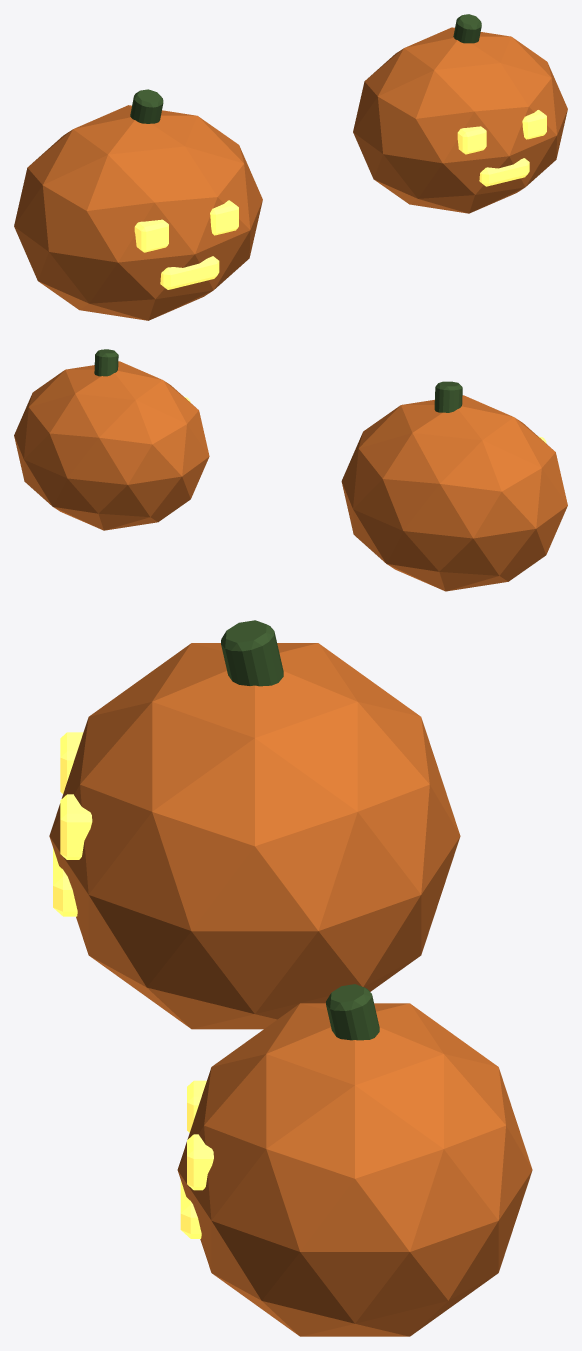
Rendered from HW_DiscoFringe.glb.
3 renders of one model, top to bottom at view 1: azimuth 30°, elevation 25°; view 2: azimuth 150°, elevation 25°; view 3: azimuth 270°, elevation 25°, orthographic. The views are drawn at different scales.
Visible parts, largest first — view 1: Jack_A_Body, Jack_B_Body, Jack_A_Mouth, Jack_A_EyeL, Jack_A_Stem, Jack_B_Mouth, Jack_A_EyeR, Jack_B_EyeL, Jack_B_Stem, Jack_B_EyeR; view 2: Jack_A_Body, Jack_B_Body, Jack_A_Stem, Jack_B_Stem; view 3: Jack_A_Body, Jack_B_Body, Jack_A_Stem, Jack_B_Stem, Jack_A_EyeR, Jack_B_EyeR, Jack_A_Mouth.
Part boxes in pixels (x1=…): Jack_A_Body: x1=14, y1=105, x2=262, y2=320; Jack_B_Body: x1=353, y1=27, x2=567, y2=213; Jack_A_Mouth: x1=160, y1=256, x2=219, y2=289; Jack_A_EyeL: x1=134, y1=219, x2=168, y2=252; Jack_A_Stem: x1=130, y1=89, x2=163, y2=123; Jack_B_Mouth: x1=479, y1=158, x2=529, y2=186; Jack_A_EyeR: x1=210, y1=200, x2=238, y2=235; Jack_B_EyeL: x1=457, y1=126, x2=486, y2=154; Jack_B_Stem: x1=453, y1=14, x2=481, y2=43; Jack_B_EyeR: x1=522, y1=110, x2=546, y2=139; Jack_A_Body: x1=341, y1=395, x2=567, y2=591; Jack_B_Body: x1=14, y1=361, x2=209, y2=530; Jack_A_Stem: x1=434, y1=381, x2=462, y2=412; Jack_B_Stem: x1=94, y1=349, x2=118, y2=376; Jack_A_Body: x1=49, y1=643, x2=460, y2=1029; Jack_B_Body: x1=177, y1=1003, x2=532, y2=1336; Jack_A_Stem: x1=221, y1=620, x2=283, y2=686; Jack_B_Stem: x1=326, y1=984, x2=379, y2=1040; Jack_A_EyeR: x1=60, y1=794, x2=92, y2=859; Jack_B_EyeR: x1=187, y1=1134, x2=213, y2=1190; Jack_A_Mouth: x1=53, y1=848, x2=77, y2=916.
Size of the model in its own units: 1.73 by 0.6501 by 0.724.
